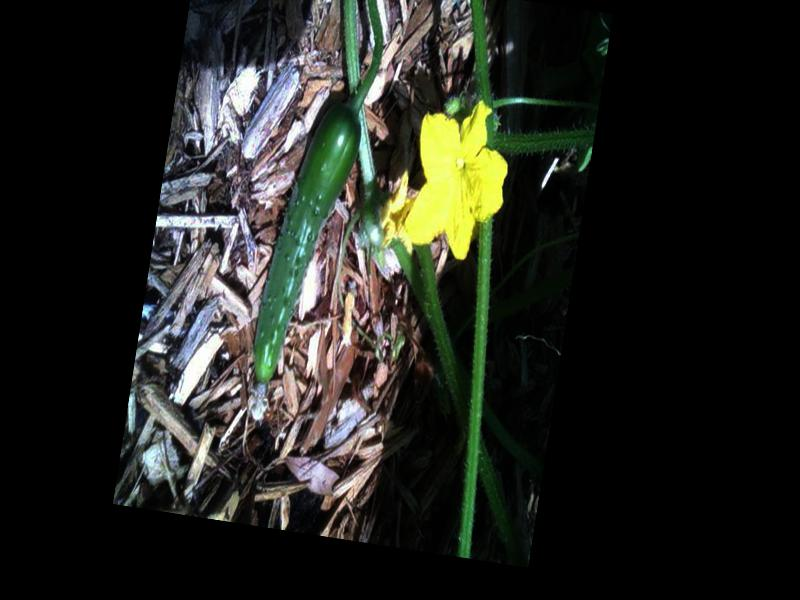Cucumber: (240, 91, 366, 423)
